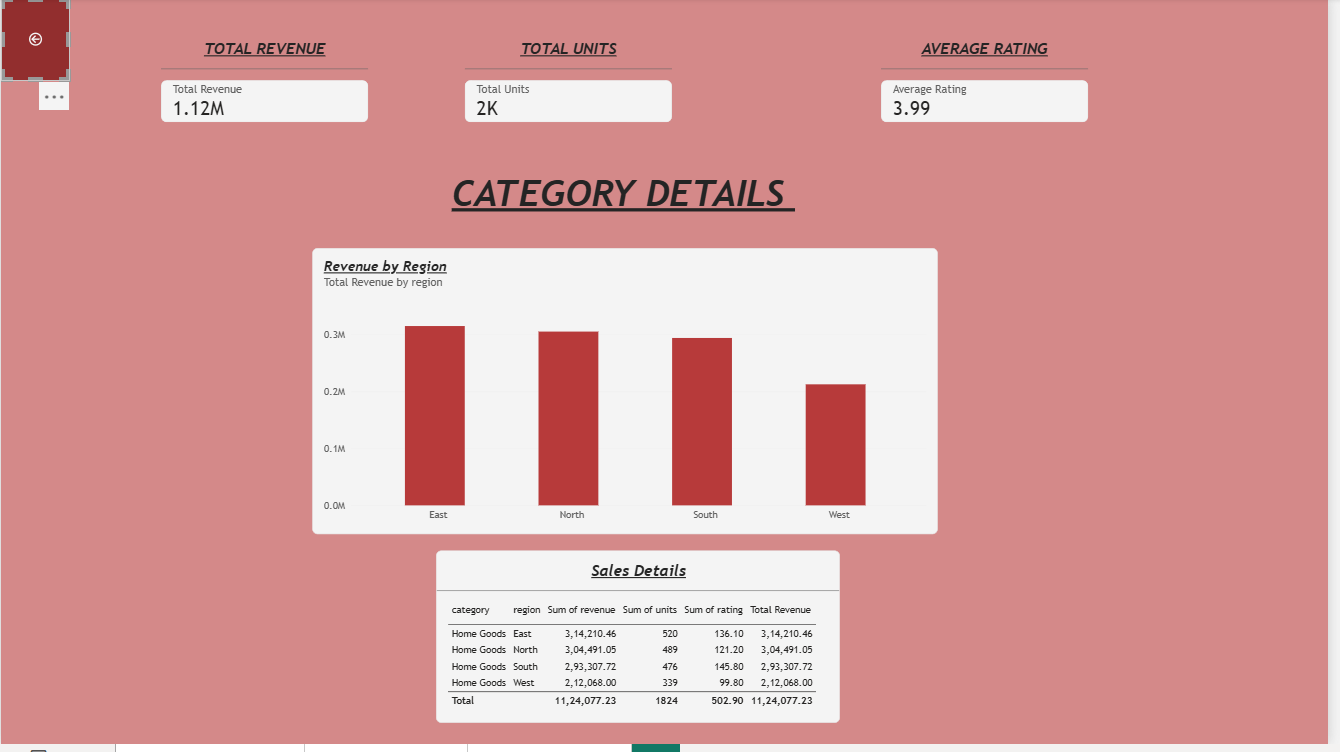

The page's visual inventory and layout, read from the dashboard file:
{"tool":"powerbi","page":{"name":"Category Details","canvas":[1920,1080],"ordinal":2},"visuals":[{"type":"actionButton","box":[0,0,99.5,119.4],"z":0},{"type":"textbox","box":[150,180,300,300],"z":1},{"type":"textbox","box":[150.3,237.3,1501.6,630.3],"z":2},{"type":"tableEx","title":" Sales Details   ","fields":{"Values":["data_pulse_sales_dataset.category","data_pulse_sales_dataset.region","Sum(data_pulse_sales_dataset.revenue)","Sum(data_pulse_sales_dataset.units)","Sum(data_pulse_sales_dataset.rating)","data_pulse_sales_dataset.Total Revenue"]},"box":[630.3,800.6,585.1,250],"z":3},{"type":"cardVisual","title":"TOTAL REVENUE","fields":{"Data":["data_pulse_sales_dataset.Total Revenue"]},"box":[231.6,59.7,300,120],"z":4},{"type":"cardVisual","title":"TOTAL UNITS","fields":{"Data":["data_pulse_sales_dataset.Total Units"]},"box":[671.4,59.7,300,120],"z":5},{"type":"cardVisual","title":"AVERAGE RATING","fields":{"Data":["data_pulse_sales_dataset.Average Rating"]},"box":[1274,59.7,300,120],"z":6},{"type":"clusteredColumnChart","title":"Revenue by Region","fields":{"Category":["data_pulse_sales_dataset.region"],"Y":["data_pulse_sales_dataset.Total Revenue"]},"box":[451,362.3,905.7,414.8],"z":7}]}

Visuals, with their boxes in screenshot pixels (x1, y1, x2, y2), scaled from the page's 1920x1080 canvas onto the 1340x752 screenshot:
actionButton: <bbox>0, 0, 69, 83</bbox>
textbox: <bbox>105, 125, 314, 334</bbox>
textbox: <bbox>105, 165, 1153, 604</bbox>
" Sales Details   " tableEx: <bbox>440, 557, 848, 732</bbox>
"TOTAL REVENUE" cardVisual: <bbox>162, 42, 371, 125</bbox>
"TOTAL UNITS" cardVisual: <bbox>469, 42, 678, 125</bbox>
"AVERAGE RATING" cardVisual: <bbox>889, 42, 1099, 125</bbox>
"Revenue by Region" clusteredColumnChart: <bbox>315, 252, 947, 541</bbox>
